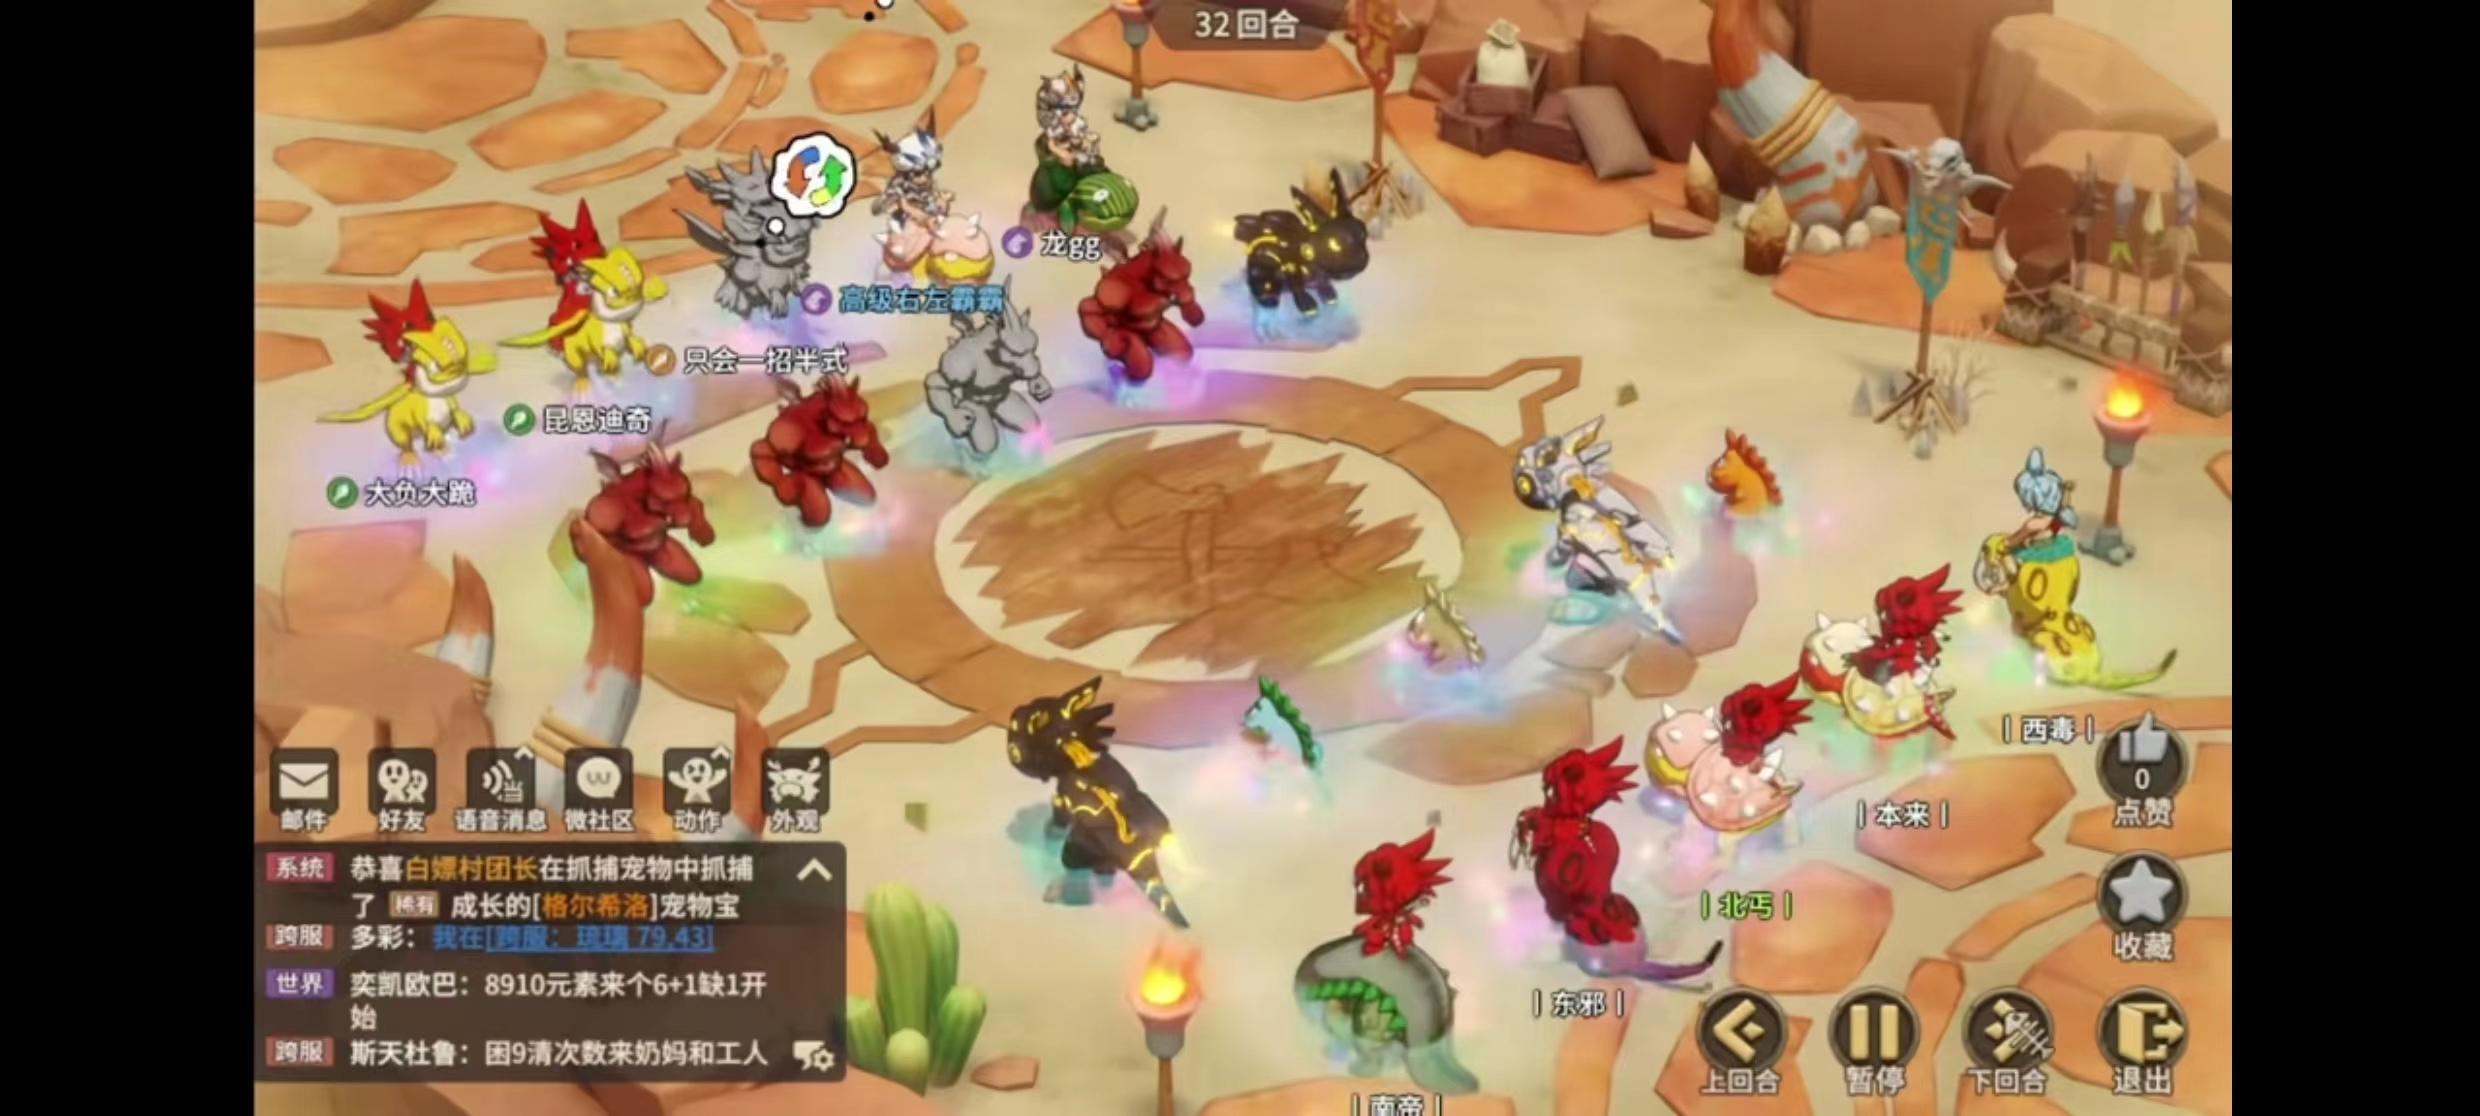葛雷吉鲁: (558, 416, 721, 654), (737, 353, 902, 571), (1061, 201, 1213, 420)
